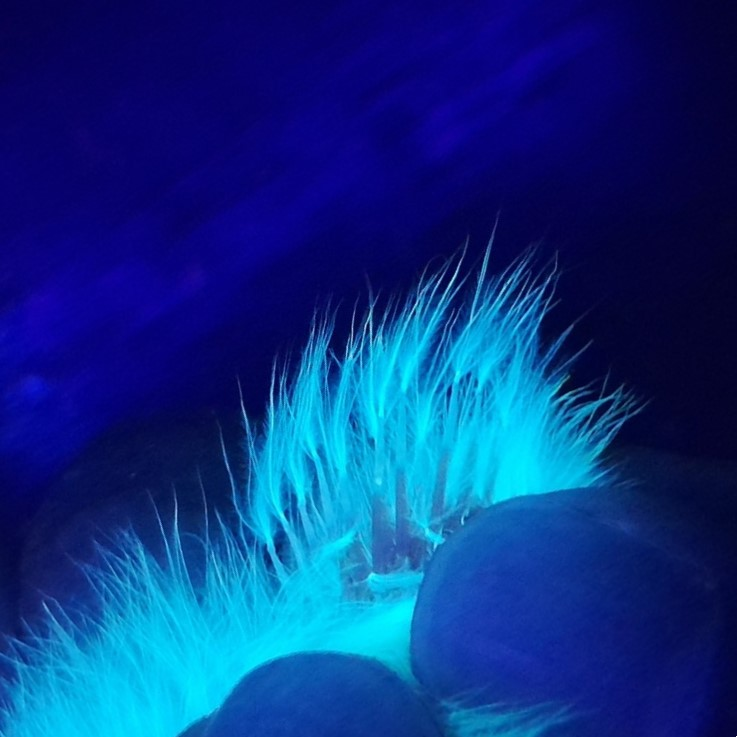male: (264, 372, 545, 620)
